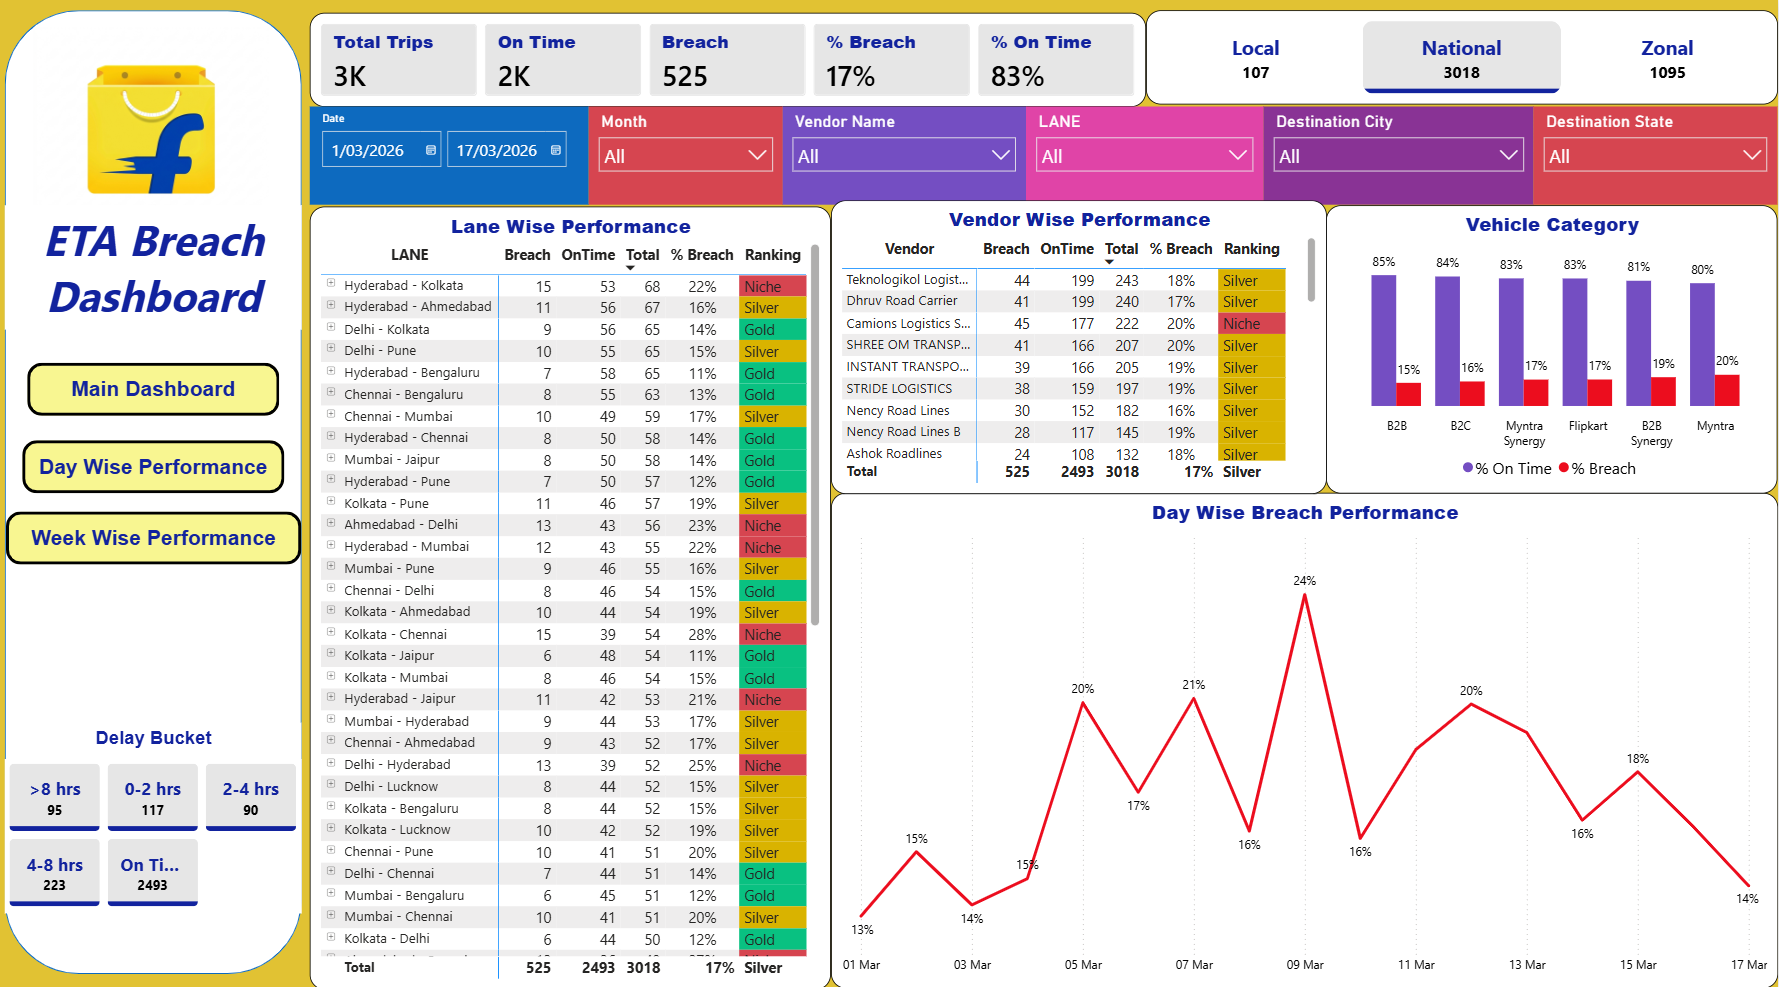

This screenshot's page, from the dashboard's own definition file:
{"tool":"powerbi","page":{"name":"ETA Breach ","canvas":[1800,1000],"ordinal":0},"visuals":[{"type":"cardVisual","fields":{"Data":["All Measures.Total Trips","All Measures.OnTime Count","All Measures.Breach count","All Measures.% Breach","All Measures.% On Time"]},"box":[316.7,13.4,844.5,95.5],"z":0},{"type":"pivotTable","title":"Vendor Wise Performance","fields":{"Values":["All Measures.Breach count","All Measures.OnTime Count","CountNonNull(ETA Raw Data.Trip ID)","All Measures.% Breach","All Measures.Ranking"],"Rows":["ETA Raw Data.Vendor "]},"box":[861.3,460.8,467.5,539.5],"z":1000},{"type":"pivotTable","title":"Lane Wise Performance","fields":{"Values":["All Measures.Breach count","All Measures.OnTime Count","CountNonNull(ETA Raw Data.Trip ID)","All Measures.% Breach","All Measures.Ranking"],"Rows":["ETA Raw Data.lane -1","ETA Raw Data.Vendor "]},"box":[316.7,460.8,541.2,539.5],"z":2000},{"type":"columnChart","title":"Month Wise Performance","fields":{"Category":["Calendar.Date.Variation.Date Hierarchy.Month","Calendar.Date.Variation.Date Hierarchy.Year"],"Y":["All Measures.% On Time","All Measures.% Breach"]},"box":[316.7,207.8,541.2,253],"z":3000},{"type":"shape","box":[8.4,11.7,299.9,973.5],"z":4000},{"type":"image","box":[0,28.5,313.3,237.9],"z":5000},{"type":"actionButton","box":[31.8,407.2,258,53.6],"z":6000},{"type":"textbox","box":[8.4,207.8,299.9,125.7],"z":7000},{"type":"advancedSlicerVisual","title":"Zone Performance","fields":{"Label":["CountNonNull(ETA Raw Data.Trip ID)"],"Values":["ETA Raw Data.LZN"]},"box":[1161.2,11.7,638.4,95.5],"z":8000},{"type":"advancedSlicerVisual","title":"Zone Performance","fields":{"Label":["CountNonNull(ETA Raw Data.Trip ID)"],"Values":["ETA Raw Data.Delay Bucket"]},"box":[8.4,767.4,299.9,155.8],"z":9000},{"type":"slicer","title":"Zone Performance","fields":{"Values":["ETA Raw Data.Vendor Name"]},"box":[794.2,108.9,246.3,98.9],"z":10000},{"type":"slicer","title":"Zone Performance","fields":{"Values":["ETA Raw Data.lane -1"]},"box":[1040.6,108.9,239.6,98.9],"z":11000},{"type":"slicer","title":"Zone Performance","fields":{"Values":["ETA Raw Data.Destination"]},"box":[1280.2,108.9,273.1,98.9],"z":12000},{"type":"slicer","title":"Zone Performance","fields":{"Values":["ETA Raw Data.Month_Year"]},"box":[598.2,108.9,196,98.9],"z":13000},{"type":"lineChart","title":"Week Wise Breach Trend","fields":{"Category":["Calendar.Date.Variation.Date Hierarchy.Month","Calendar.Date.Variation.Date Hierarchy.Year","ETA Raw Data.Week Number"],"Y":["All Measures.% Breach"]},"box":[857.9,207.8,941.7,253],"z":14000},{"type":"clusteredColumnChart","title":"Destination Zone","fields":{"Category":["ETA Raw Data.Destination Zone"],"Y":["All Measures.% On Time","All Measures.% Breach"]},"box":[1328.8,730.6,470.8,269.8],"z":15000},{"type":"slicer","title":"Zone Performance","fields":{"Values":["Calendar.Date"]},"box":[316.7,108.9,281.5,98.9],"z":16000},{"type":"slicer","title":"Zone Performance","fields":{"Values":["ETA Raw Data.Destination State"]},"box":[1553.3,108.9,246.3,98.9],"z":17000},{"type":"clusteredColumnChart","title":"Vehicle Category","fields":{"Category":["ETA Raw Data.Vehicle Category"],"Y":["All Measures.% On Time","All Measures.% Breach"]},"box":[1328.8,460.8,470.8,269.8],"z":18000},{"type":"textbox","box":[10.1,730.6,298.3,36.9],"z":19000},{"type":"actionButton","box":[31.8,472.5,258,53.6],"z":20000}]}

Visuals, with their boxes in screenshot pixels (x1, y1, x2, y2), scaled from the page's 1800x1000 canvas onto the 1779x987 screenshot:
cardVisual - All Measures.Total Trips x All Measures.OnTime Count: 313, 13, 1148, 107
"Vendor Wise Performance" pivotTable: 851, 455, 1313, 986
"Lane Wise Performance" pivotTable: 313, 455, 848, 986
"Month Wise Performance" columnChart: 313, 205, 848, 455
shape: 8, 12, 305, 972
image: 0, 28, 310, 263
actionButton: 31, 402, 286, 455
textbox: 8, 205, 305, 329
"Zone Performance" advancedSlicerVisual: 1148, 12, 1778, 106
"Zone Performance" advancedSlicerVisual: 8, 757, 305, 911
"Zone Performance" slicer: 785, 107, 1028, 205
"Zone Performance" slicer: 1028, 107, 1265, 205
"Zone Performance" slicer: 1265, 107, 1535, 205
"Zone Performance" slicer: 591, 107, 785, 205
"Week Wise Breach Trend" lineChart: 848, 205, 1778, 455
"Destination Zone" clusteredColumnChart: 1313, 721, 1778, 986
"Zone Performance" slicer: 313, 107, 591, 205
"Zone Performance" slicer: 1535, 107, 1778, 205
"Vehicle Category" clusteredColumnChart: 1313, 455, 1778, 721
textbox: 10, 721, 305, 758
actionButton: 31, 466, 286, 519
